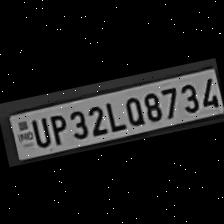2: (82, 100, 108, 137)
3: (174, 78, 201, 116), (64, 105, 89, 140)
4: (194, 74, 220, 110)
7: (156, 84, 180, 120)
8: (138, 88, 163, 124)
L: (101, 97, 124, 133)
P: (44, 110, 70, 146)
Q: (119, 92, 146, 128)
U: (26, 113, 51, 148)
